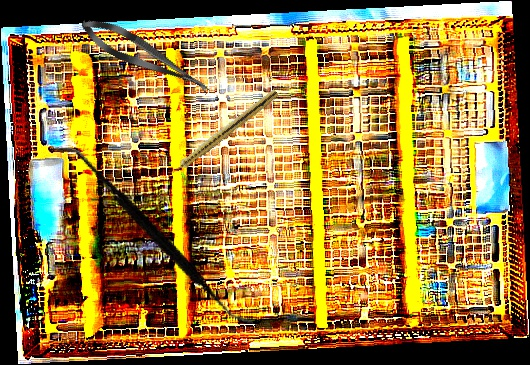Handpiece: (165, 86, 280, 180)
Micro Scissor: (75, 10, 216, 103)
Spatula Surgical: (24, 144, 282, 326)
